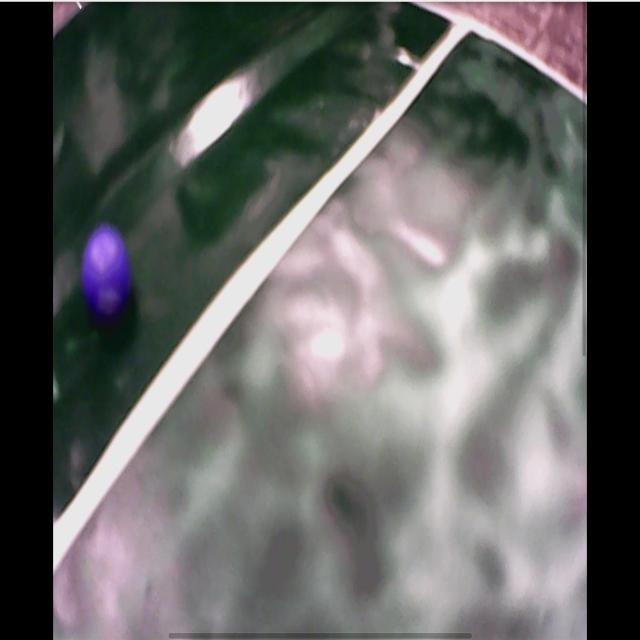ball: (84, 226, 130, 315)
